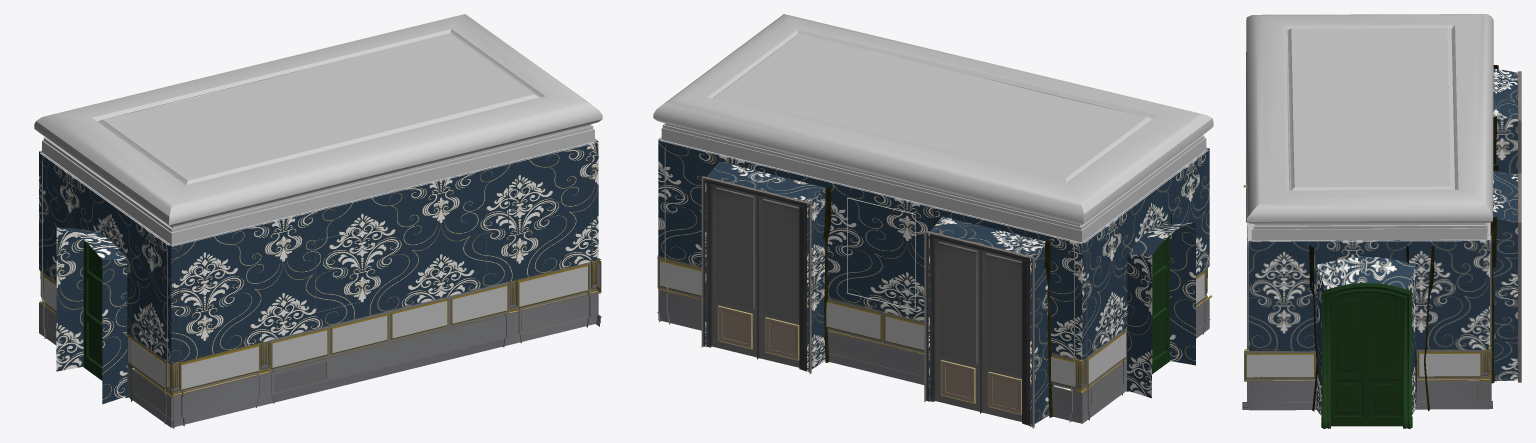
The model's file is Salo Rosa.fbx.
The picture shows the model from 3 angles, left to right: view 1: azimuth 30°, elevation 25°; view 2: azimuth 150°, elevation 25°; view 3: azimuth 270°, elevation 25°; orthographic projection. The views are drawn at different scales.
Parts seen in each view (by area): view 1: PM_SRosa_sostre_LP, PM_SRosa_sostre_LP.001, PM_SRosa_sostre_LP.004, SRosa_Columna_001.005, Porta_fusta_Marc_001.012, Motllura Inferior_001.017; view 2: PM_SRosa_sostre_LP.001, PM_SRosa_sostre_LP, PortaVidriera_001.003, PortaVidriera_001.004, PM_SRosa_sostre_LP.004, Porta_fusta_PE_001.010, SRosa_Columna_001.005, Cortina_1.011, PM_SRosa_sostre_LP.007, Cortina_1.010; view 3: PM_SRosa_sostre_LP.001, PM_SRosa_sostre_LP, Porta_fusta_PE_001.007, Porta_fusta_PD_001.004, PM_SRosa_sostre_LP.004, Porta_fusta_Marc_001.008, Cortina_1.008, SRosa_Columna_001.005, PortaVidriera_001.003, Cortina_1.011, PortaVidriera_001.004.
Part boxes in pixels (box(x1,y1,x2,y2)): PM_SRosa_sostre_LP: box(39, 139, 598, 427); PM_SRosa_sostre_LP.001: box(34, 14, 602, 246); PM_SRosa_sostre_LP.004: box(43, 260, 601, 393); SRosa_Columna_001.005: box(40, 146, 597, 426); Porta_fusta_Marc_001.012: box(83, 240, 102, 380); Motllura Inferior_001.017: box(172, 290, 597, 395); PM_SRosa_sostre_LP.001: box(653, 14, 1213, 244); PM_SRosa_sostre_LP: box(658, 137, 1209, 426); PortaVidriera_001.003: box(701, 176, 811, 374); PortaVidriera_001.004: box(924, 230, 1034, 428); PM_SRosa_sostre_LP.004: box(657, 257, 1205, 388); Porta_fusta_PE_001.010: box(1152, 235, 1169, 374); SRosa_Columna_001.005: box(664, 144, 1207, 422); Cortina_1.011: box(712, 156, 834, 362); PM_SRosa_sostre_LP.007: box(1051, 353, 1075, 390); Cortina_1.010: box(931, 209, 1053, 417); PM_SRosa_sostre_LP.001: box(1246, 14, 1493, 241); PM_SRosa_sostre_LP: box(1249, 68, 1517, 416); Porta_fusta_PE_001.007: box(1330, 292, 1366, 426); Porta_fusta_PD_001.004: box(1367, 292, 1403, 426); PM_SRosa_sostre_LP.004: box(1244, 222, 1490, 380); Porta_fusta_Marc_001.008: box(1321, 283, 1412, 428); Cortina_1.008: box(1306, 242, 1437, 411); SRosa_Columna_001.005: box(1246, 52, 1491, 408); PortaVidriera_001.003: box(1518, 173, 1521, 382); Cortina_1.011: box(1490, 165, 1498, 383); PortaVidriera_001.004: box(1518, 71, 1521, 173).
Size of the model in its own units: 1178 by 511 by 621.
